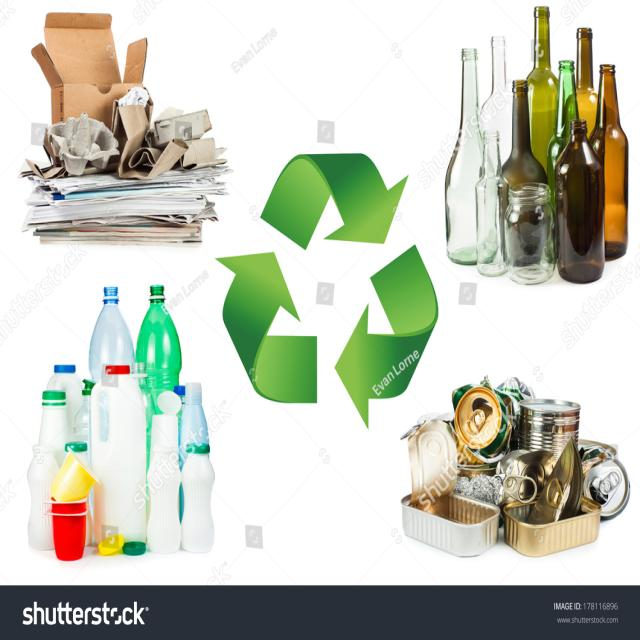cardboard: (43, 41, 211, 261)
glass: (456, 51, 624, 269)
metal: (422, 403, 621, 533)
plastic: (36, 322, 206, 561)
